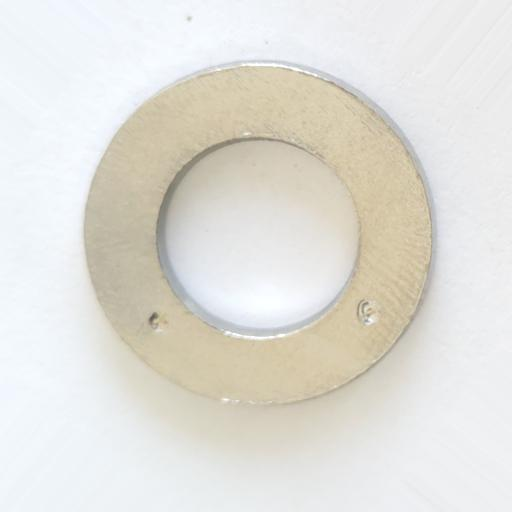circular_cavity: (357, 299, 381, 326), (149, 309, 170, 332)
